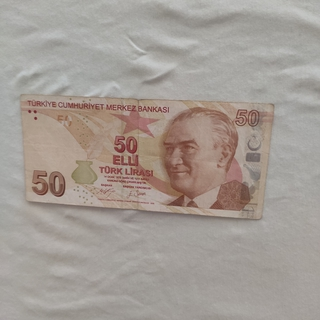50TLFront: (20, 94, 275, 219)
